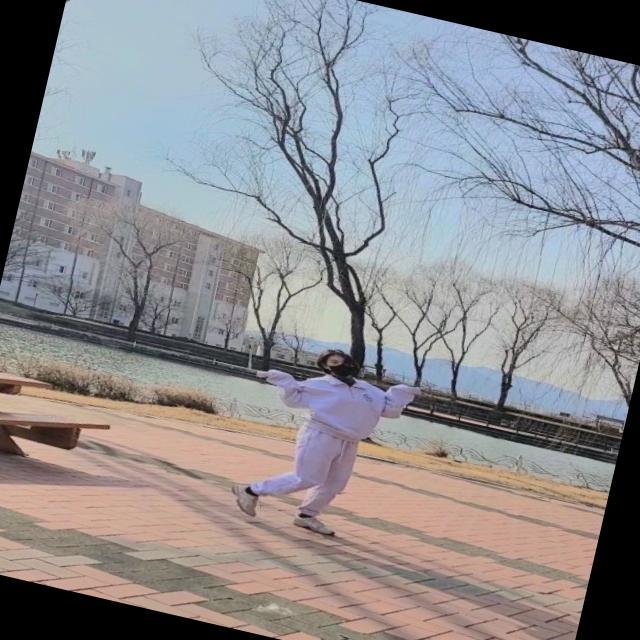mtm: (266, 358, 424, 453)
trainingpants: (251, 409, 363, 524)
